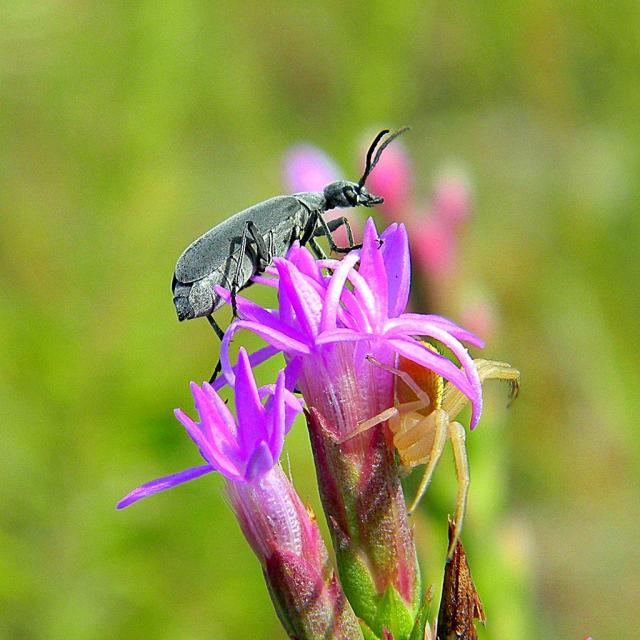BlisterBeetle-Adult-: (166, 122, 420, 339)
